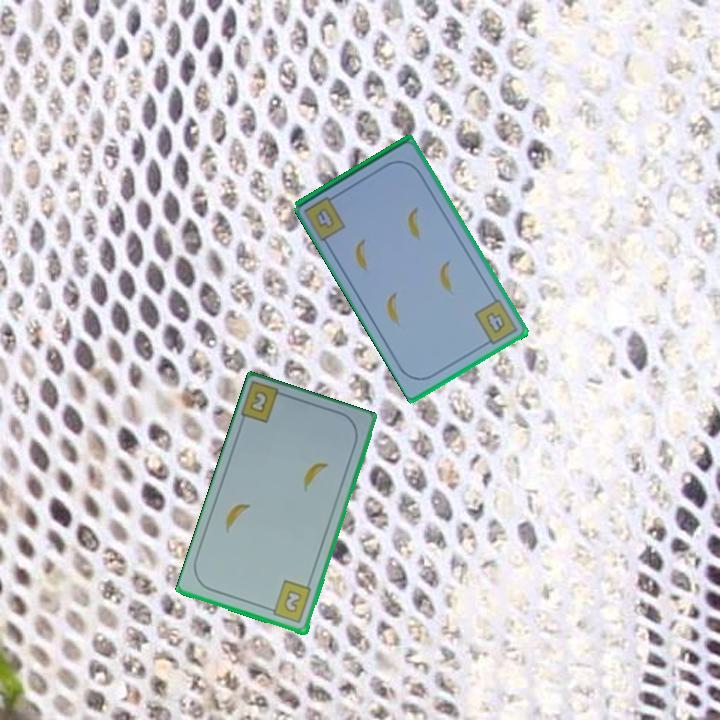2b: (264, 577, 315, 626), (246, 389, 269, 416)
4b: (471, 295, 521, 349), (312, 204, 338, 232)
